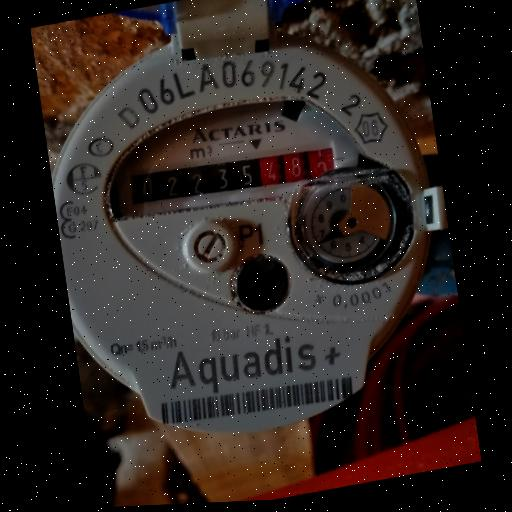0: (136, 171, 161, 204)
2: (306, 146, 337, 179), (159, 167, 186, 201), (183, 163, 209, 198)
3: (209, 160, 236, 194)
4: (257, 155, 283, 188)
5: (234, 157, 259, 190)
8: (283, 151, 309, 184)
border_water_meter_number: (126, 130, 341, 222)
